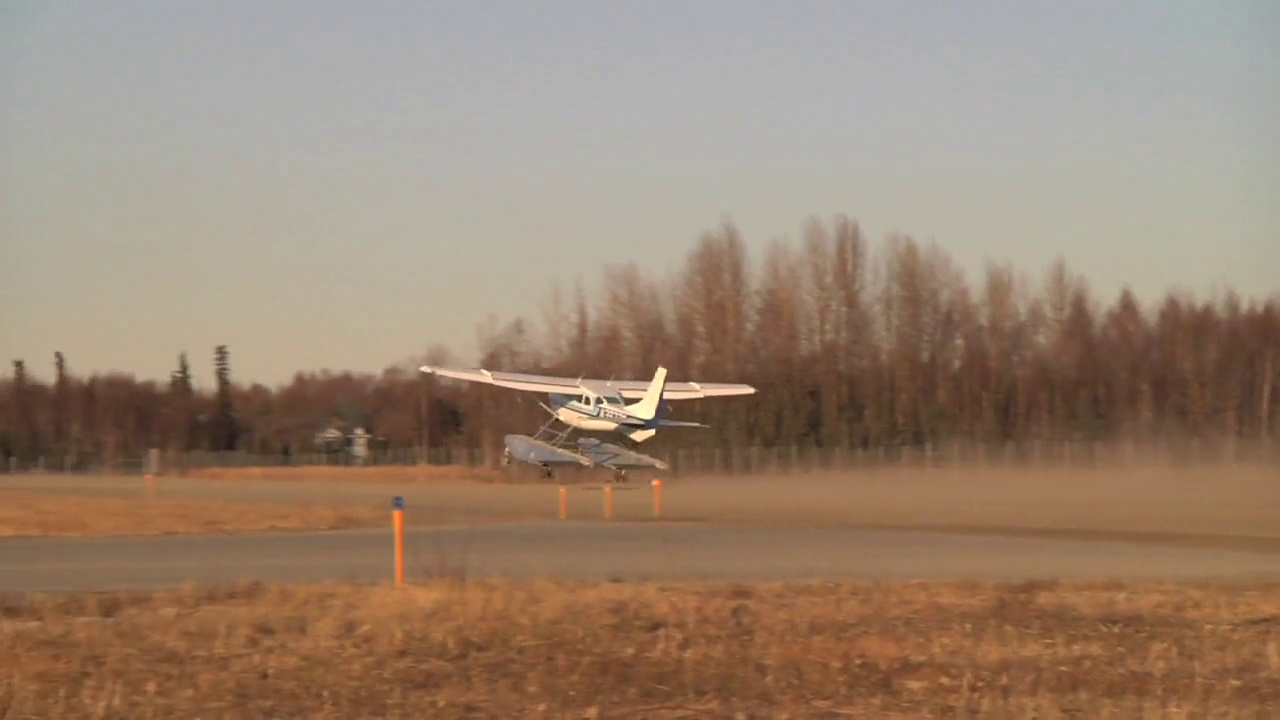plane: (415, 363, 757, 477)
